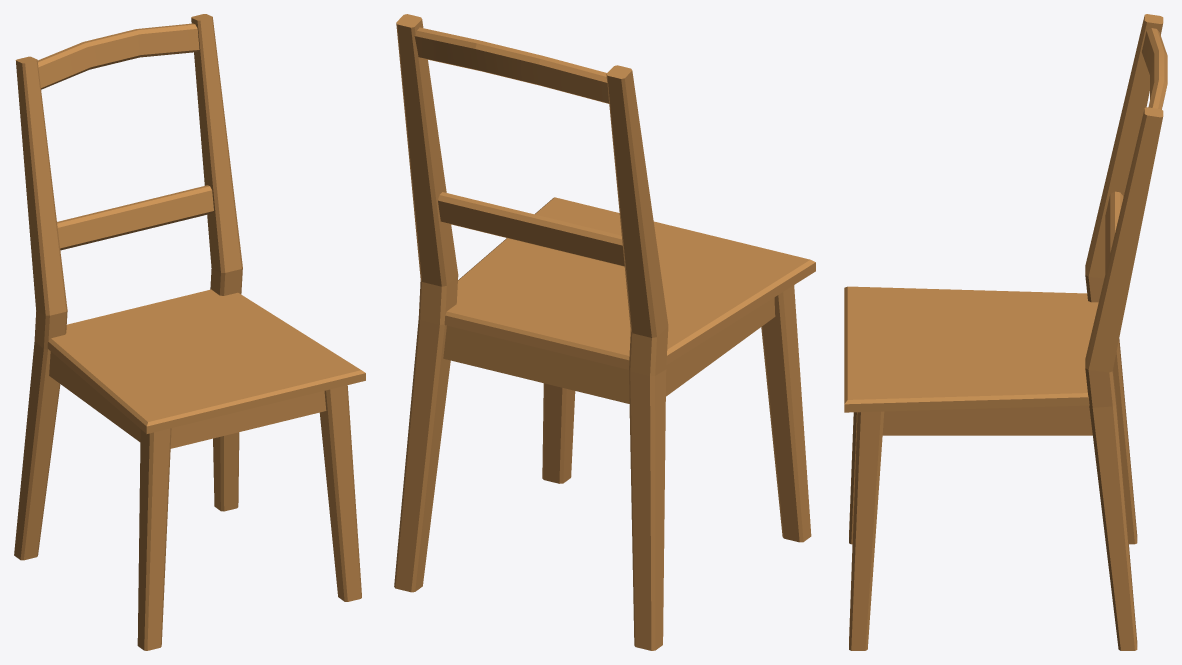
File: chair.fbx
3 views of the same model, side by side, from view 1: azimuth 30°, elevation 25°; view 2: azimuth 150°, elevation 25°; view 3: azimuth 270°, elevation 25° (orthographic). The views are drawn at different scales.
Parts seen in each view (by area): view 1: chair; view 2: chair; view 3: chair.
Boxes of the visible parts, left/top/right/bottom form: chair: left=14, top=14, right=365, bottom=650; chair: left=394, top=14, right=815, bottom=650; chair: left=844, top=14, right=1167, bottom=650.
Size of the model in its own units: 45.04 by 95.24 by 52.78.
